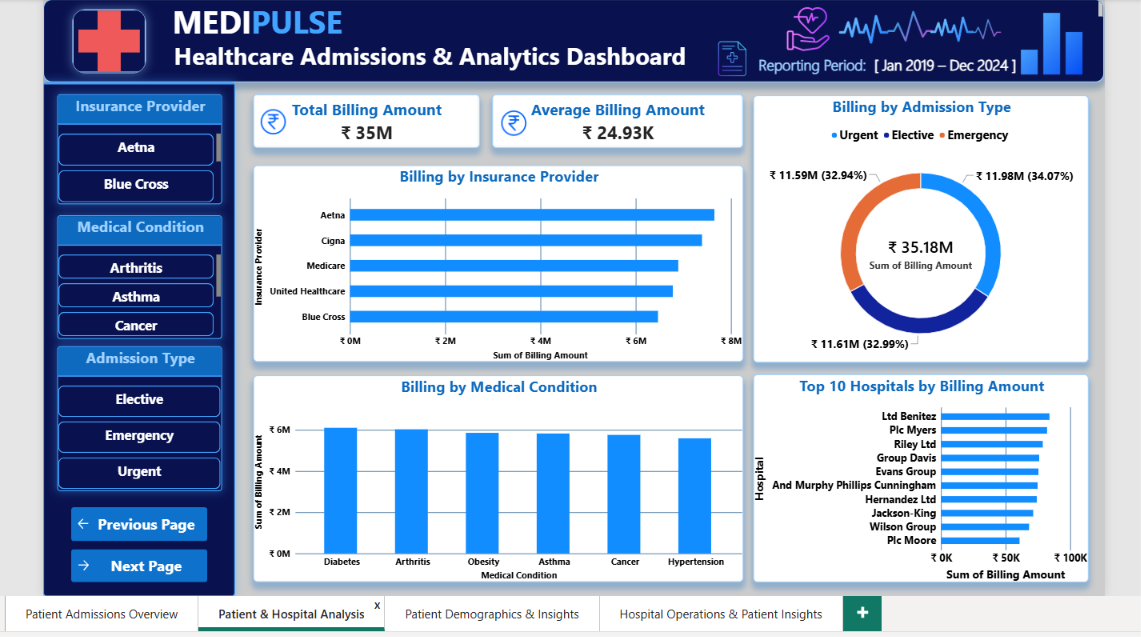

This screenshot's page, from the dashboard's own definition file:
{"tool":"powerbi","page":{"name":"Patient & Hospital Analysis","canvas":[1920,1080],"ordinal":1},"visuals":[{"type":"textbox","box":[0,0,1920,150.2],"z":0},{"type":"image","box":[52.5,18.1,133.9,115.8],"z":1000},{"type":"image","box":[1759,21.7,132.1,117.6],"z":2000},{"type":"image","box":[1203.4,76,86.9,63.3],"z":3000},{"type":"textbox","box":[0,150.2,347.5,930.2],"z":4000},{"type":"cardVisual","fields":{"Data":["Sum(Clean_Dataset_Healthcare_Patien.Billing Amount)"]},"box":[380,171.9,410.8,97.7],"z":5000},{"type":"image","box":[392.7,199.1,47.1,45.2],"z":6000},{"type":"cardVisual","fields":{"Data":["Avg(Clean_Dataset_Healthcare_Patien.Billing Amount)"]},"box":[812.5,171.9,454.2,97.7],"z":7000},{"type":"image","box":[828.8,199.1,45.2,50.7],"z":8000},{"type":"clusteredBarChart","title":"Billing by Insurance Provider","fields":{"Category":["Clean_Dataset_Healthcare_Patien.Insurance Provider"],"Y":["Sum(Clean_Dataset_Healthcare_Patien.Billing Amount)"]},"box":[380.8,300.5,887.1,356.1],"z":9000},{"type":"clusteredColumnChart","title":"Billing by Medical Condition","fields":{"Category":["Clean_Dataset_Healthcare_Patien.Medical Condition"],"Y":["Sum(Clean_Dataset_Healthcare_Patien.Billing Amount)"]},"box":[380.8,681.3,887.1,374.6],"z":10000},{"type":"donutChart","title":"Billing by Admission Type","fields":{"Category":["Clean_Dataset_Healthcare_Patien.Admission Type"],"Y":["Sum(Clean_Dataset_Healthcare_Patien.Billing Amount)"]},"box":[1284.4,172.9,607.2,483.7],"z":11000},{"type":"clusteredBarChart","title":"Top 10 Hospitals by Billing Amount","fields":{"Category":["Clean_Dataset_Healthcare_Patien.Hospital"],"Y":["Sum(Clean_Dataset_Healthcare_Patien.Billing Amount)"]},"box":[1284.4,679.2,607.2,376.7],"z":12000},{"type":"advancedSlicerVisual","fields":{"Values":["Clean_Dataset_Healthcare_Patien.Insurance Provider"]},"box":[25.3,171.9,298.6,199.1],"z":13000},{"type":"advancedSlicerVisual","fields":{"Values":["Clean_Dataset_Healthcare_Patien.Medical Condition"]},"box":[25.3,390.9,298.6,224.4],"z":14000},{"type":"advancedSlicerVisual","fields":{"Values":["Clean_Dataset_Healthcare_Patien.Admission Type"]},"box":[25.3,628,298.6,262.4],"z":15000},{"type":"actionButton","box":[50.7,919.3,246.1,61.5],"z":16000},{"type":"actionButton","box":[50.7,995.3,246.1,59.7],"z":17000},{"type":"image","box":[1339.1,0,90.5,108.6],"z":17001},{"type":"image","box":[1429.6,7.2,110.4,94.1],"z":17002},{"type":"image","box":[1509.3,7.2,119.4,83.2],"z":17003},{"type":"image","box":[1601.5,12.7,86.9,83.2],"z":17004},{"type":"image","box":[1668.5,27.1,76,54.3],"z":17005}]}

Visuals, with their boxes on the page's 1920x1080 design canvas (x1, y1, x2, y2). These are canvas units, not pixel positions in the 1141x637 screenshot, which may show the page scaled, cropped or inside an application window:
textbox: rect(0, 0, 1920, 150)
image: rect(52, 18, 186, 134)
image: rect(1759, 22, 1891, 139)
image: rect(1203, 76, 1290, 139)
textbox: rect(0, 150, 348, 1080)
cardVisual - Sum(Clean_Dataset_Healthcare_Patien.Billing Amount): rect(380, 172, 791, 270)
image: rect(393, 199, 440, 244)
cardVisual - Avg(Clean_Dataset_Healthcare_Patien.Billing Amount): rect(812, 172, 1267, 270)
image: rect(829, 199, 874, 250)
"Billing by Insurance Provider" clusteredBarChart: rect(381, 300, 1268, 657)
"Billing by Medical Condition" clusteredColumnChart: rect(381, 681, 1268, 1056)
"Billing by Admission Type" donutChart: rect(1284, 173, 1892, 657)
"Top 10 Hospitals by Billing Amount" clusteredBarChart: rect(1284, 679, 1892, 1056)
advancedSlicerVisual - Clean_Dataset_Healthcare_Patien.Insurance Provider: rect(25, 172, 324, 371)
advancedSlicerVisual - Clean_Dataset_Healthcare_Patien.Medical Condition: rect(25, 391, 324, 615)
advancedSlicerVisual - Clean_Dataset_Healthcare_Patien.Admission Type: rect(25, 628, 324, 890)
actionButton: rect(51, 919, 297, 981)
actionButton: rect(51, 995, 297, 1055)
image: rect(1339, 0, 1430, 109)
image: rect(1430, 7, 1540, 101)
image: rect(1509, 7, 1629, 90)
image: rect(1602, 13, 1688, 96)
image: rect(1668, 27, 1744, 81)
